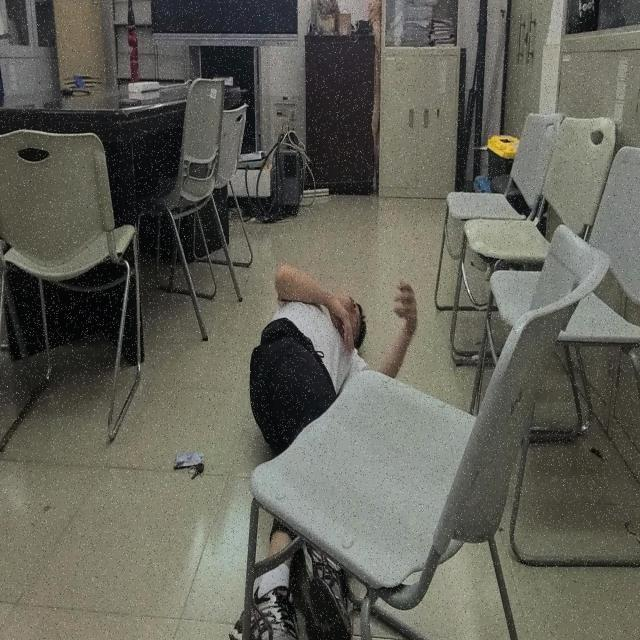fall: (226, 260, 419, 640)
